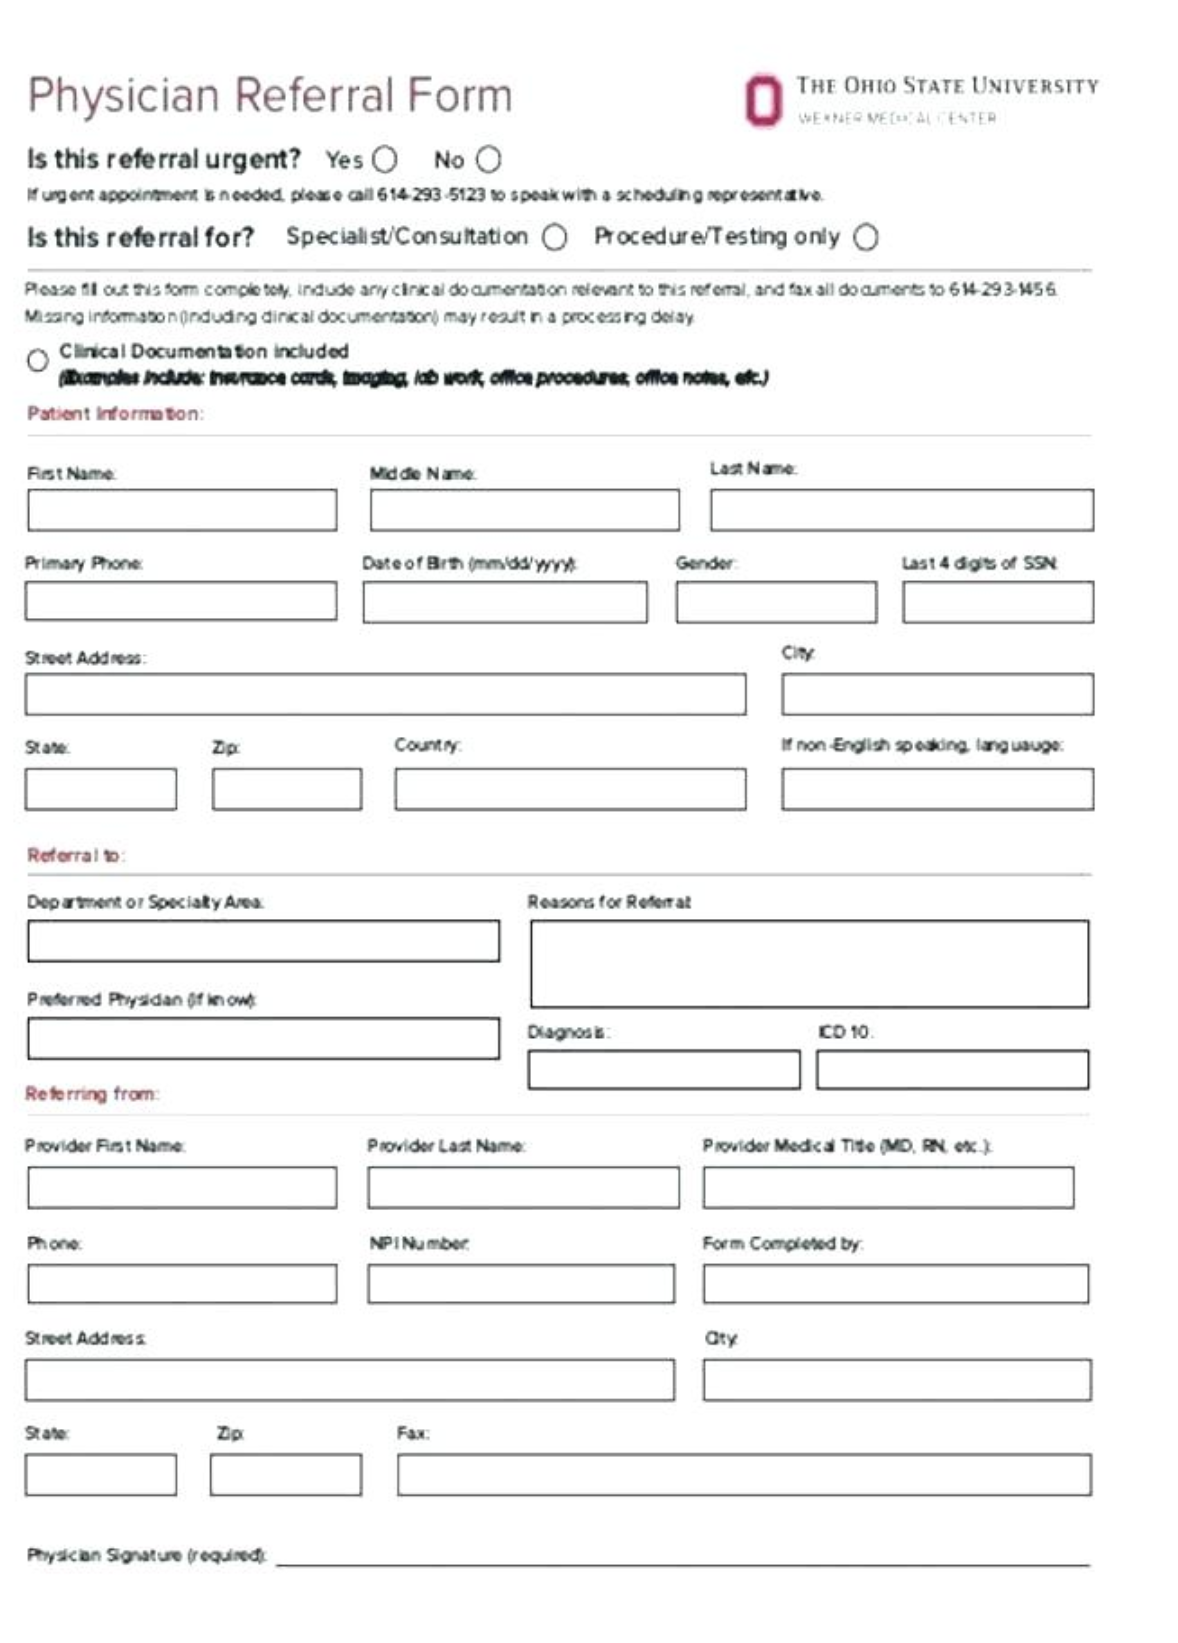textbox: (521, 911, 1105, 1013), (388, 1443, 1100, 1504), (22, 667, 757, 721), (17, 1352, 680, 1406), (24, 1011, 507, 1066), (20, 914, 506, 967), (702, 481, 1100, 540), (700, 1354, 1102, 1408), (775, 663, 1100, 727), (695, 1259, 1096, 1309), (697, 1162, 1080, 1213), (20, 482, 348, 540), (389, 762, 751, 814), (365, 484, 690, 540), (358, 1159, 688, 1213), (775, 762, 1107, 816), (23, 1257, 344, 1312), (22, 1160, 344, 1213), (17, 576, 345, 628), (354, 574, 651, 628), (362, 1259, 682, 1309), (811, 1046, 1100, 1099), (524, 1044, 810, 1095), (671, 575, 885, 631), (895, 574, 1100, 630), (17, 1447, 186, 1503), (199, 1448, 368, 1502), (14, 764, 185, 814), (205, 762, 367, 816)
textline: (269, 1526, 1095, 1575)
